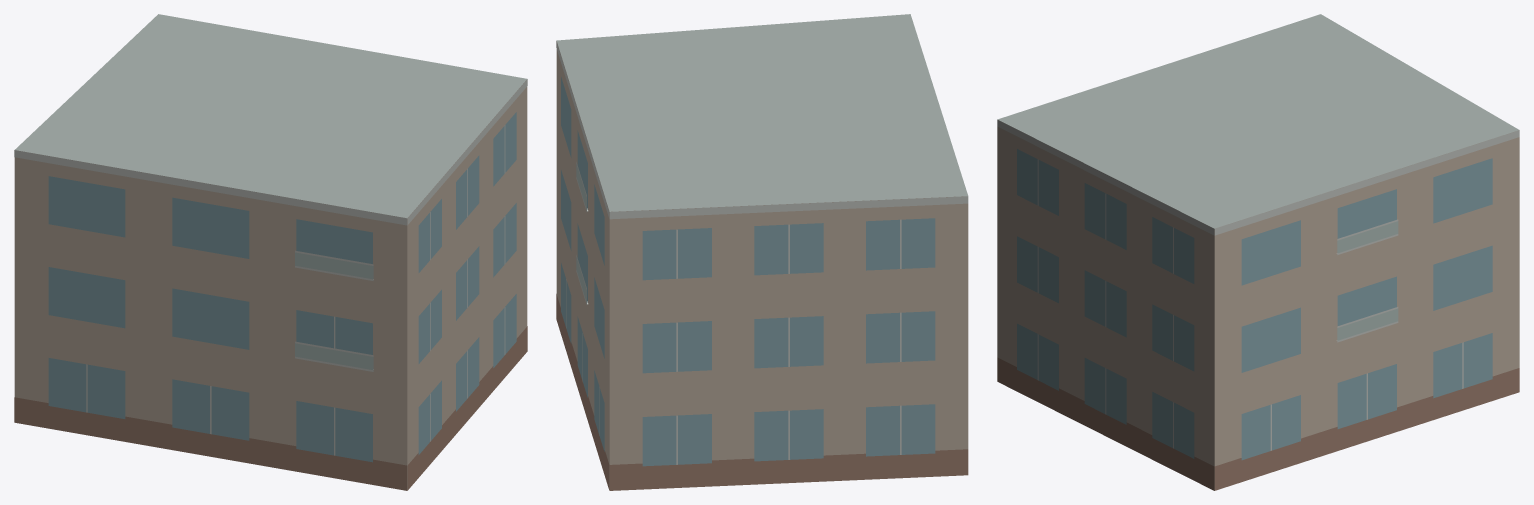
The model's file is survey-upis-32907428.glb.
3 views of the same model, side by side, from view 1: azimuth 30°, elevation 25°; view 2: azimuth 150°, elevation 25°; view 3: azimuth 270°, elevation 25° (orthographic). The views are drawn at different scales.
Parts seen in each view (by area): view 1: survey-upis-32907428.tmp; view 2: survey-upis-32907428.tmp; view 3: survey-upis-32907428.tmp.
Boxes of the visible parts, bbox=[...] form: survey-upis-32907428.tmp: bbox=[14, 14, 527, 490]; survey-upis-32907428.tmp: bbox=[556, 14, 968, 490]; survey-upis-32907428.tmp: bbox=[997, 14, 1519, 490].
Bounding box in the file's own units: 16.08 × 9.15 × 16.53.
